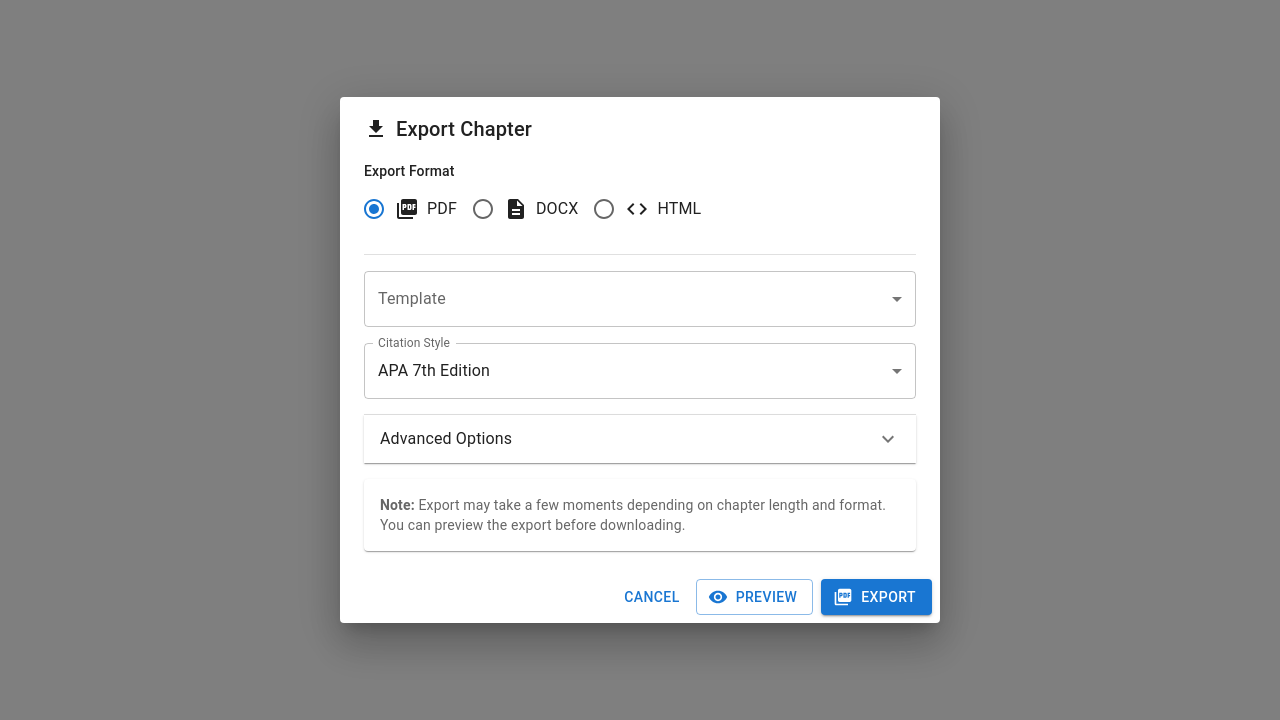
Scenario: ExportDialog Component › Preview Functionality › should show error on preview failure
Click the button "Preview" at (754, 597), box [696,579,813,615]
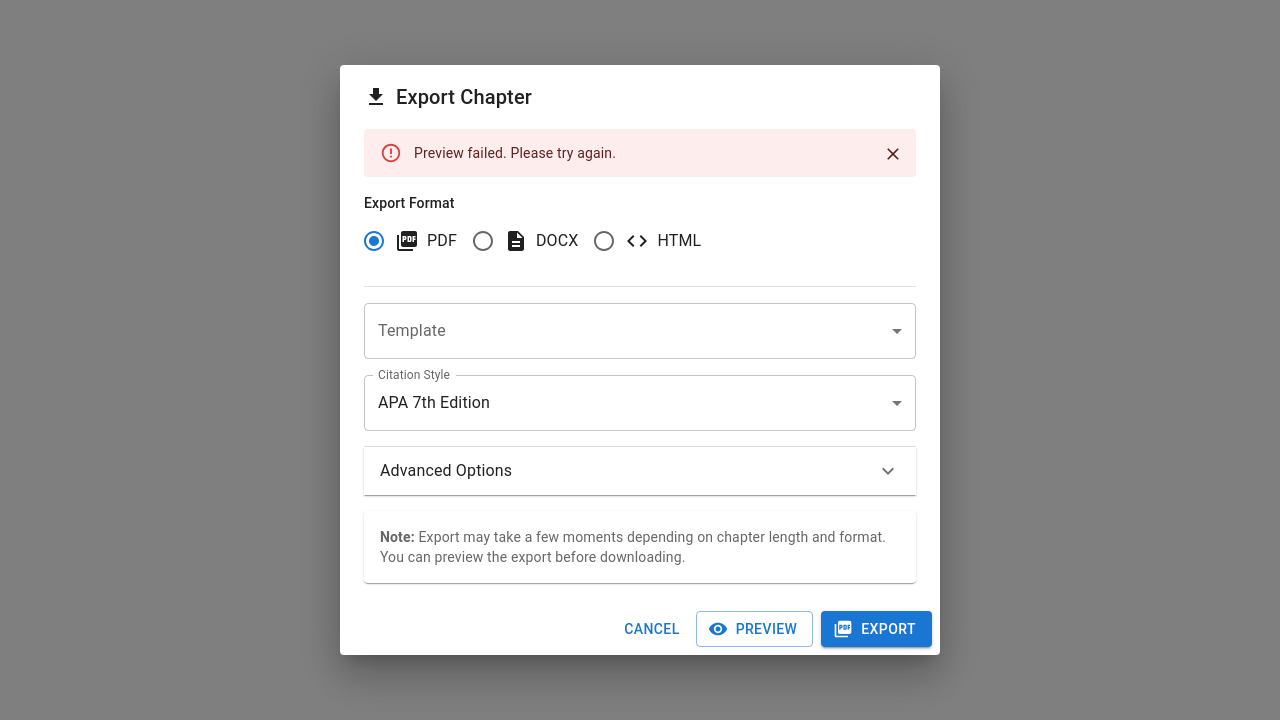
Check: the text "Preview failed. Please try again." is shown, box [414,145,616,161]
